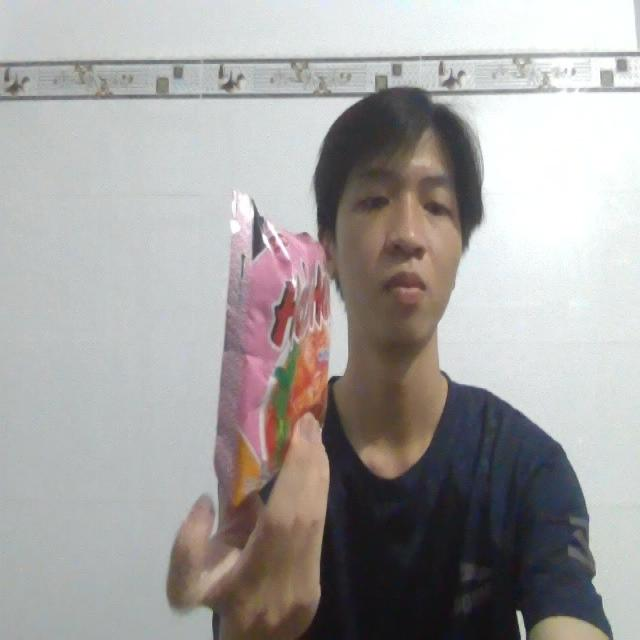mi hao hao: (192, 182, 356, 514)
